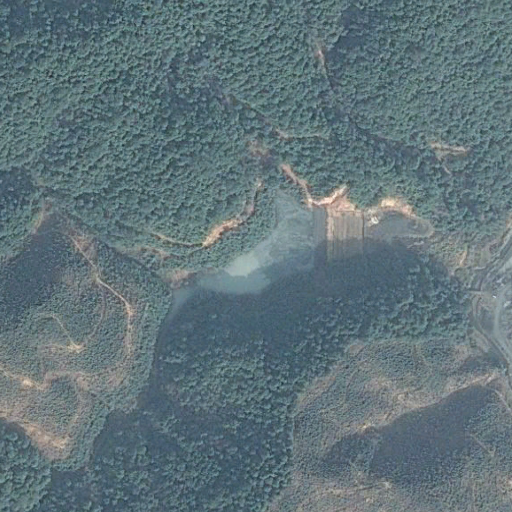tp: (146, 208, 388, 338)
